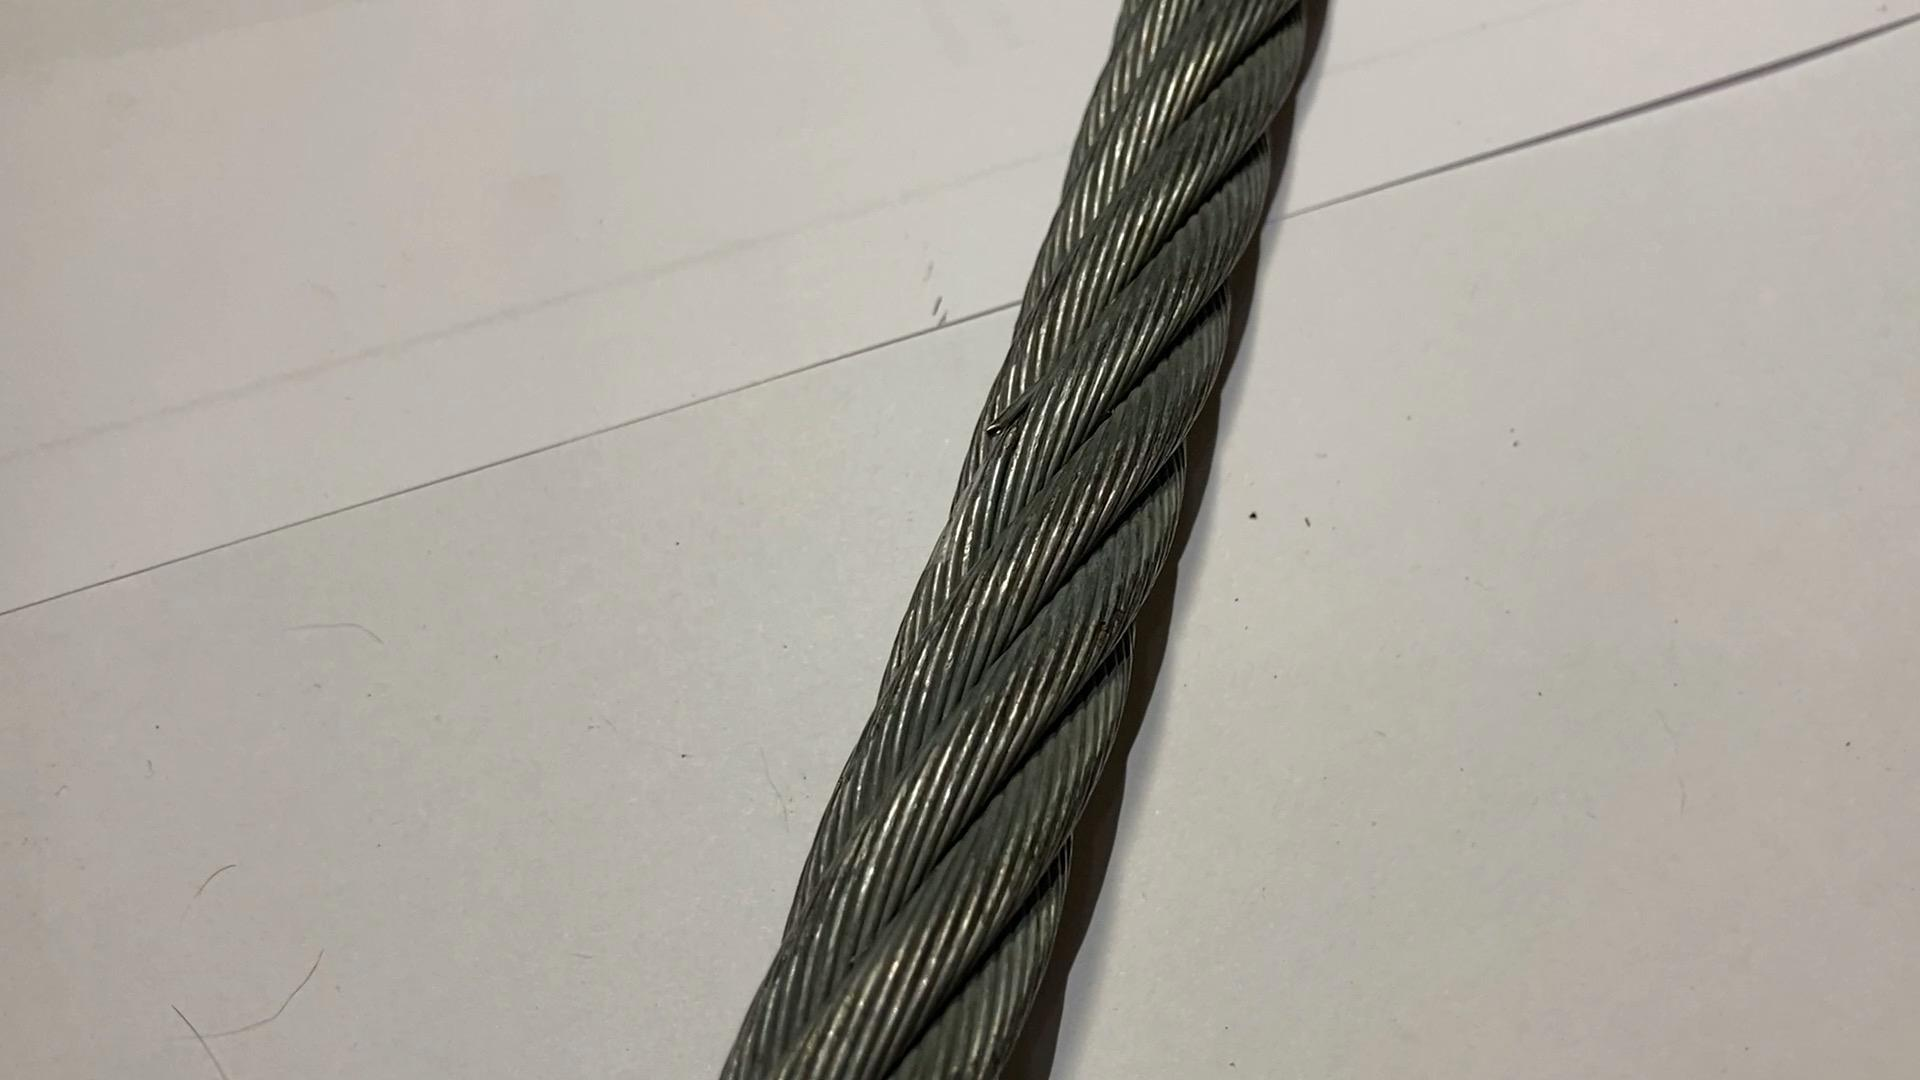break: (975, 367, 1055, 451)
